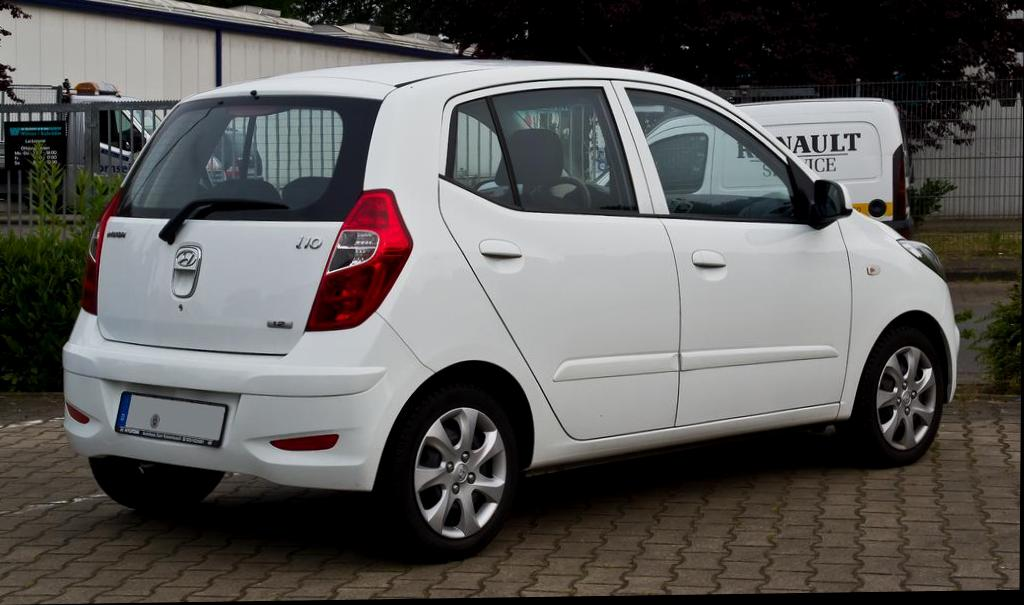License_Plate: (117, 389, 229, 447)
